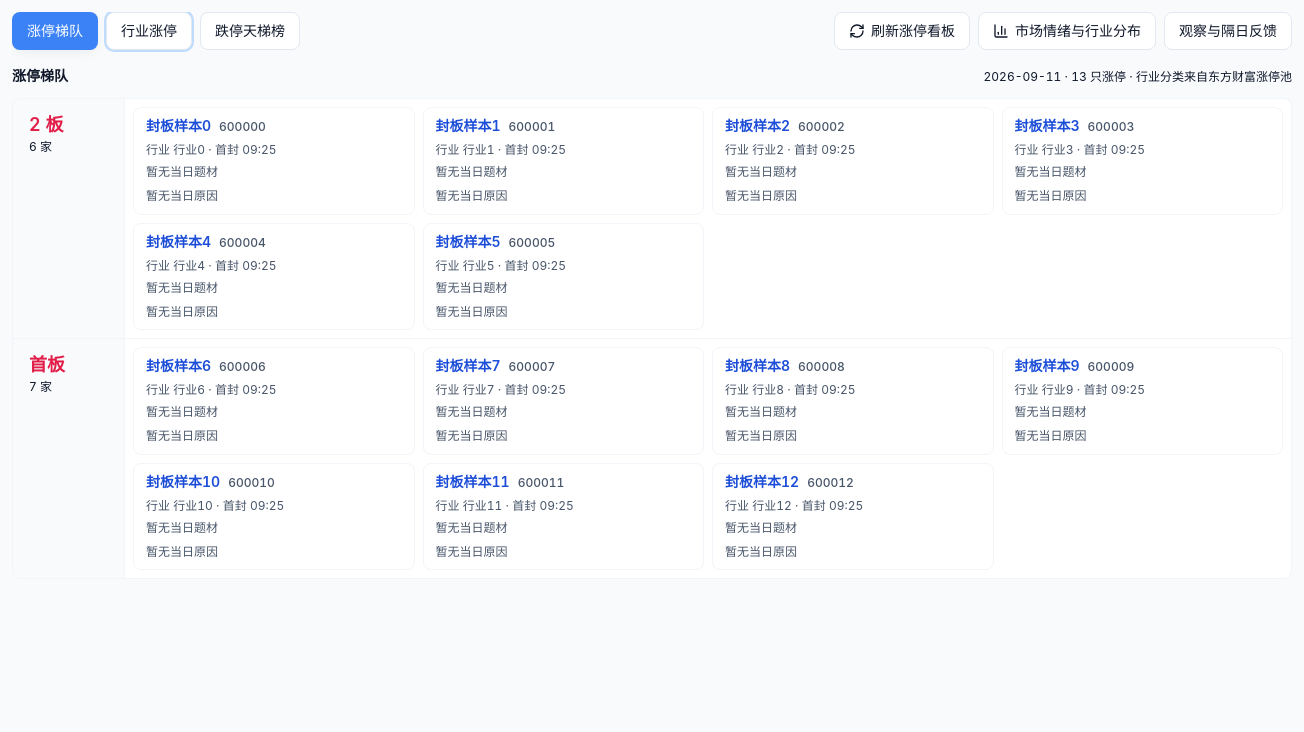
Scenario: LimitUpBoardPanel independent breadth loading › resets industry pagination when switching scope and retains first-board filtering after refresh
The image size is (1304, 732).
Click the button "行业涨停" at coordinates (149, 31), box [106, 12, 192, 50]
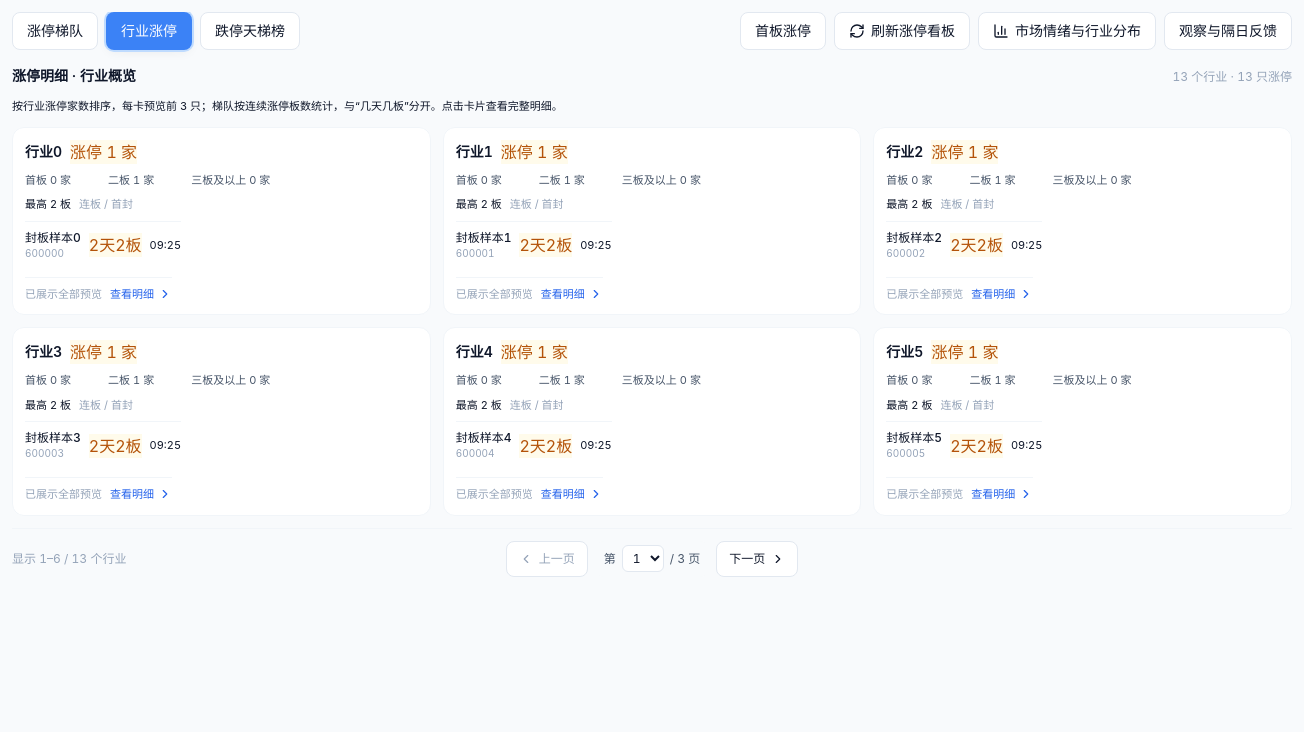
Expected: the dropdown named "跳转页码" is shown
Select "3" in the dropdown named "跳转页码" at coordinates (643, 558), box [622, 545, 664, 572]
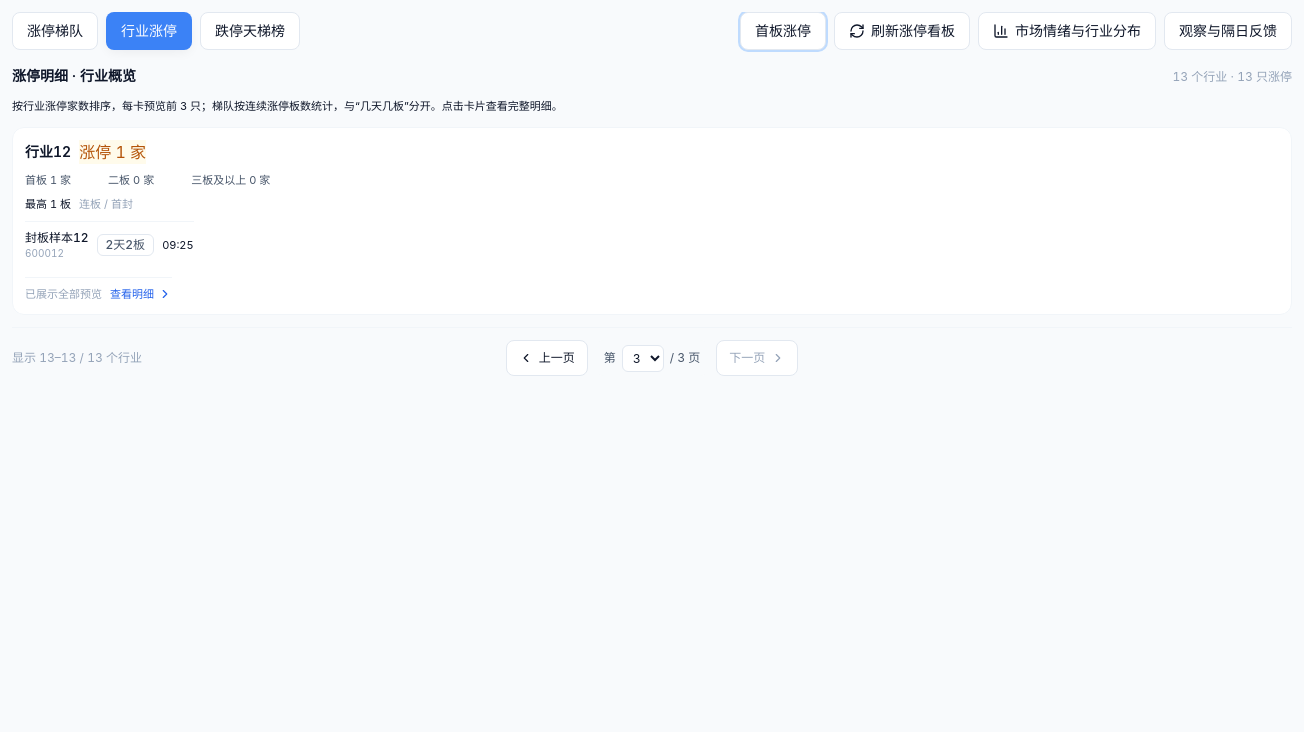
Expected: the button "首板涨停" is shown
Expected: the button "首板涨停" is enabled
Click the button "首板涨停" at coordinates (783, 31), box [740, 12, 826, 50]
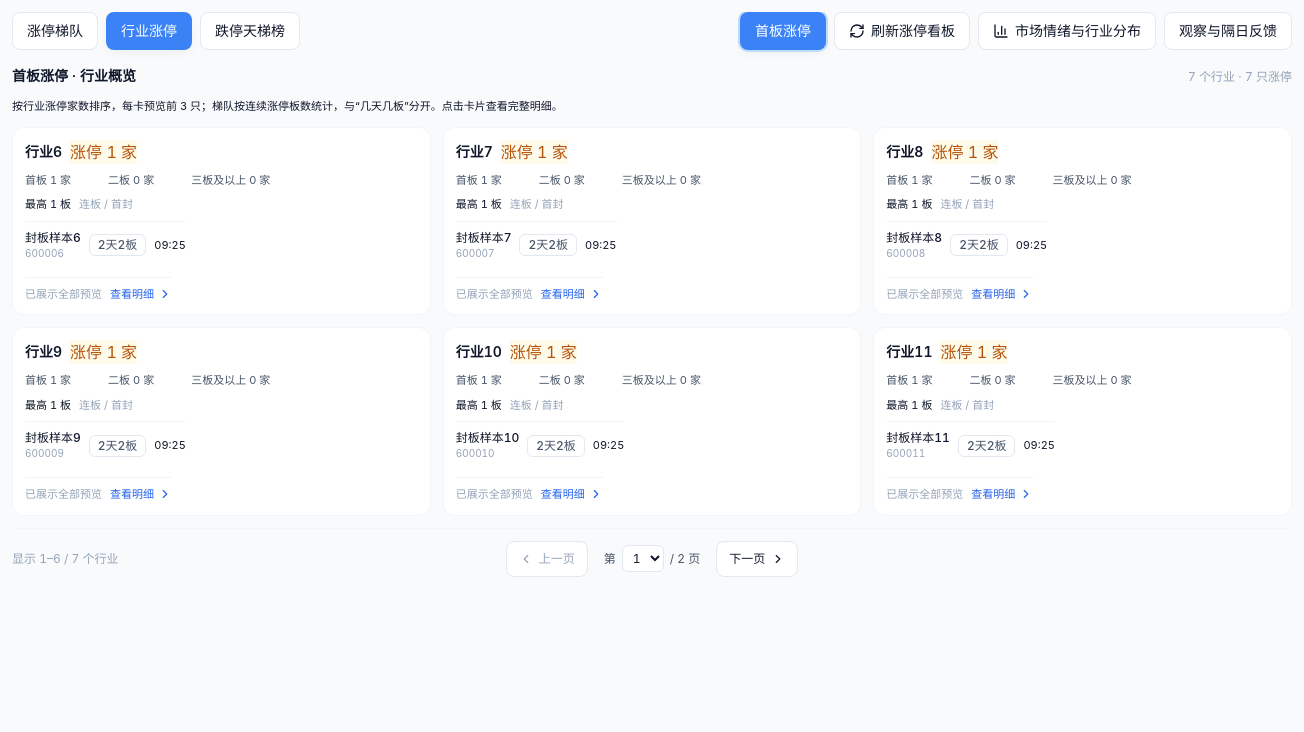
Expected: the dropdown named "跳转页码" is shown
Expected: the dropdown named "跳转页码" shows "1"
Expected: the button with aria-label "查看行业6涨停明细" shows "封板样本6", [12, 126, 431, 315]
Select "2" in the dropdown named "跳转页码" at coordinates (643, 558), box [622, 545, 664, 572]
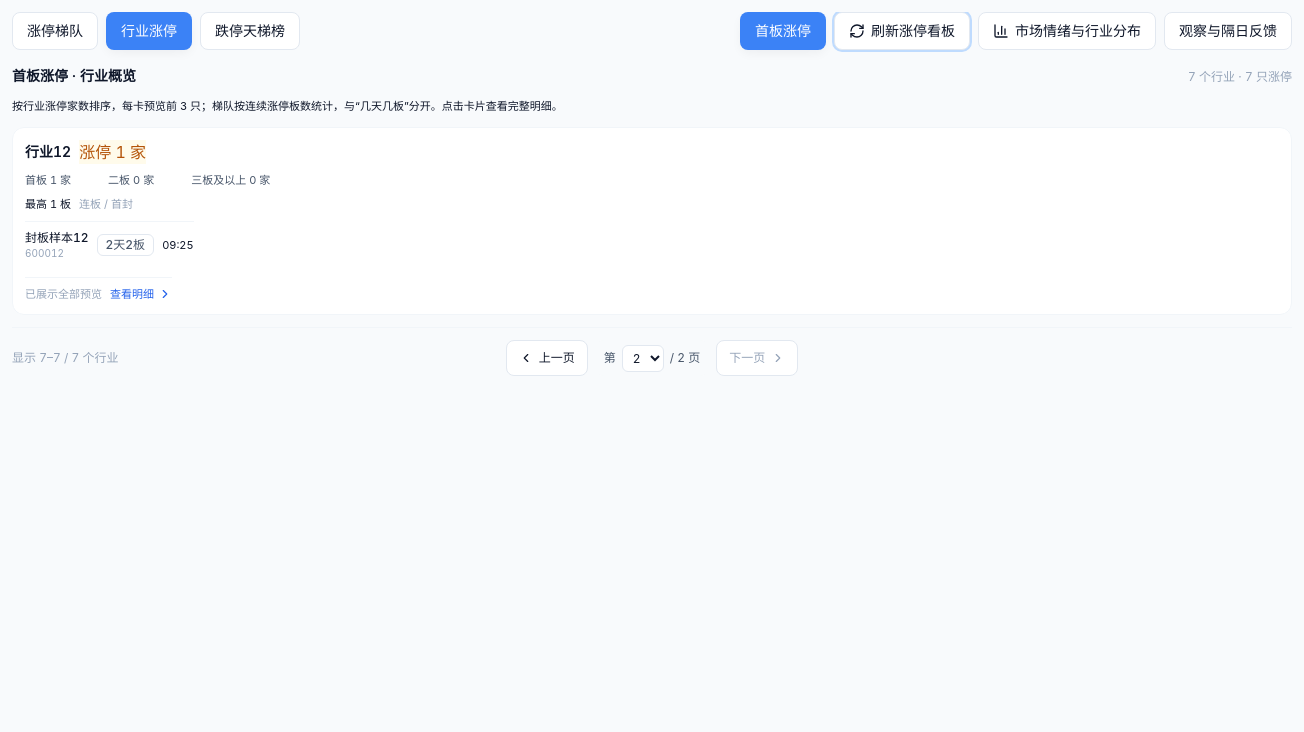
Click the button "刷新涨停看板" at coordinates (902, 31), box [834, 12, 970, 50]
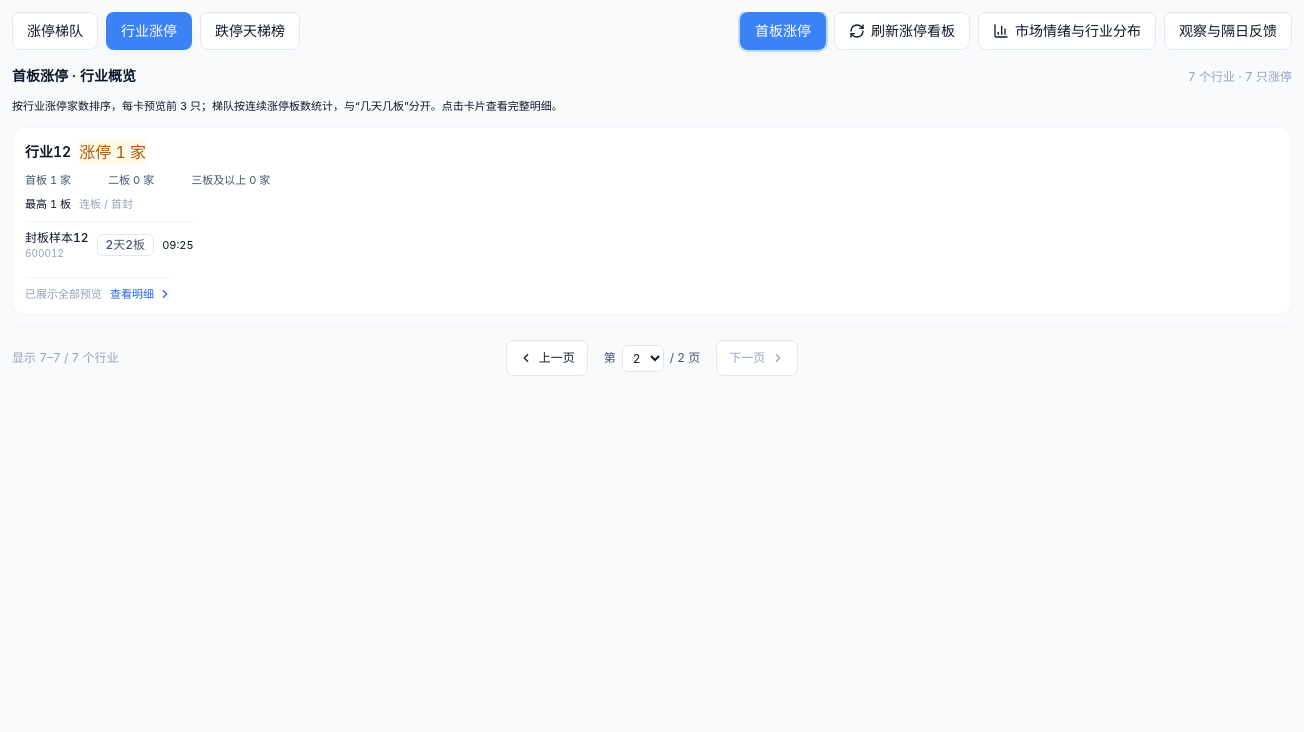
Expected: the button with aria-label "查看行业12涨停明细" shows "封板样本12", [12, 126, 1292, 315]
Expected: the button "首板涨停" is shown
Expected: the button "首板涨停" is enabled
Click the button "首板涨停" at coordinates (783, 31), box [740, 12, 826, 50]
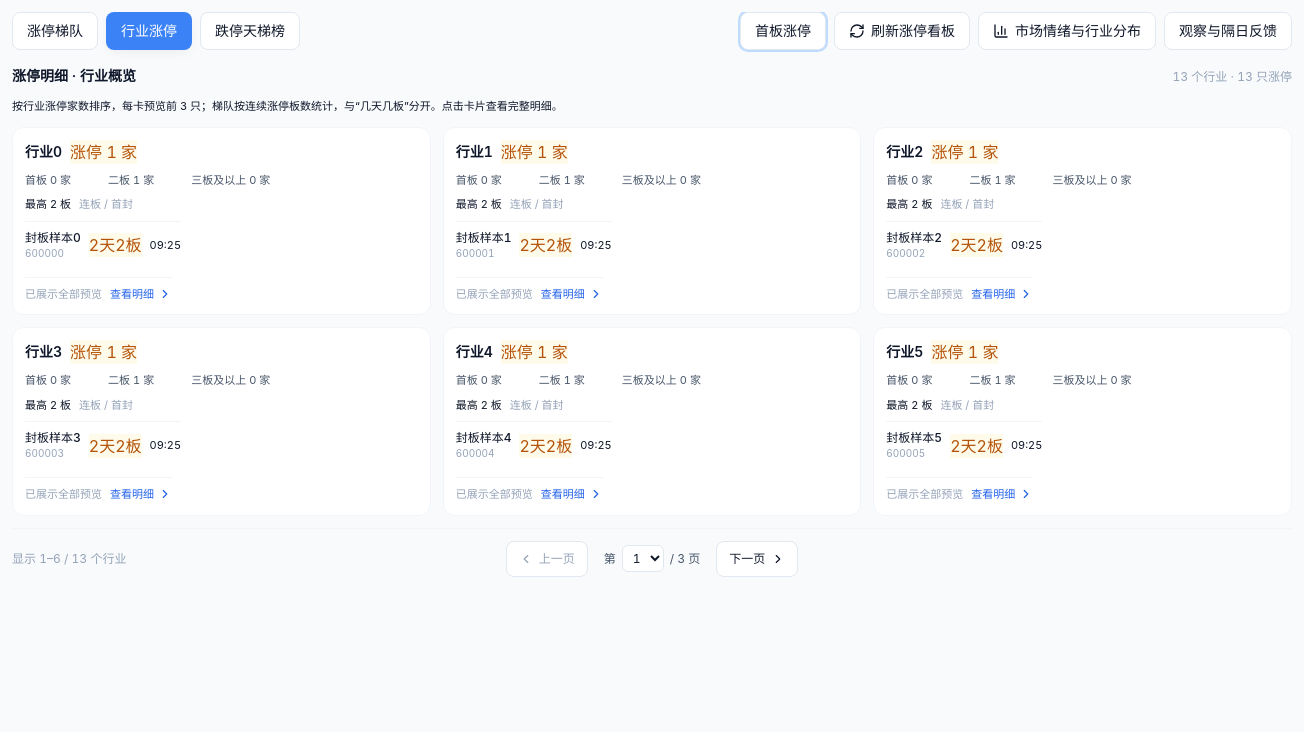
Expected: the dropdown named "跳转页码" shows "1", [622, 545, 664, 572]
Expected: the button with aria-label "查看行业0涨停明细" shows "封板样本0", [12, 126, 431, 315]
